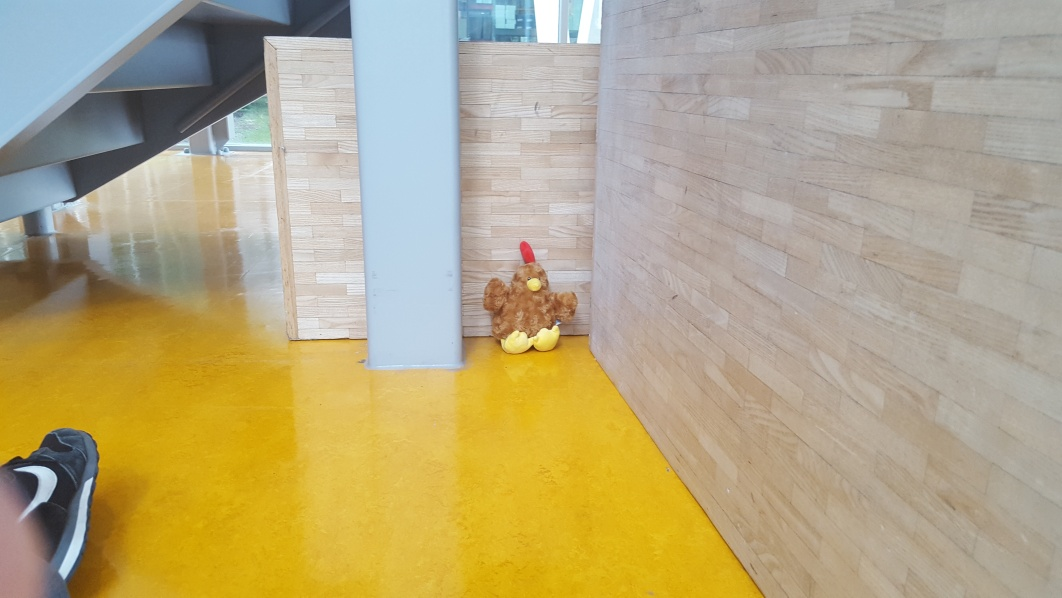chicken: (485, 242, 579, 359)
